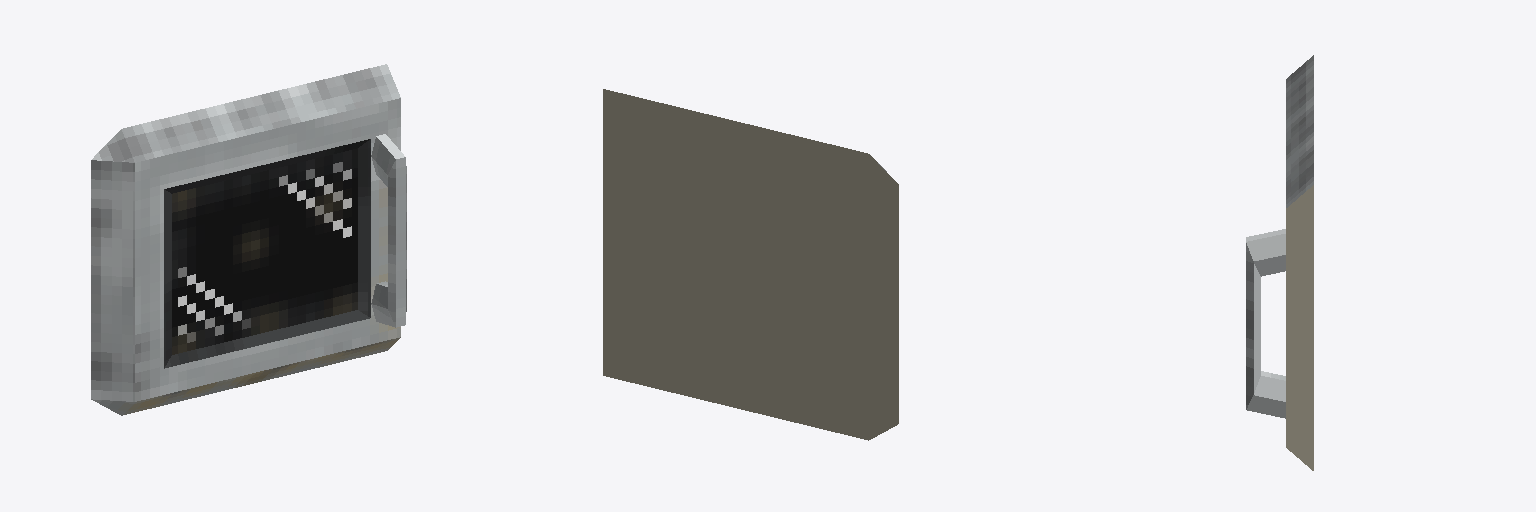
The picture shows the model from 3 angles: view 1: azimuth 30°, elevation 25°; view 2: azimuth 150°, elevation 25°; view 3: azimuth 270°, elevation 25°; orthographic projection.
Parts seen in each view (by area): view 1: beveled_cuboid.010; view 2: beveled_cuboid.010; view 3: beveled_cuboid.010.
Part boxes in pixels (x1,y1,x2,y2): beveled_cuboid.010: (91, 64, 406, 415); beveled_cuboid.010: (603, 89, 898, 440); beveled_cuboid.010: (1246, 55, 1313, 470).
Size of the model in its own units: 2.02 by 1.88 by 0.4009.
2 materials, 2 textured.